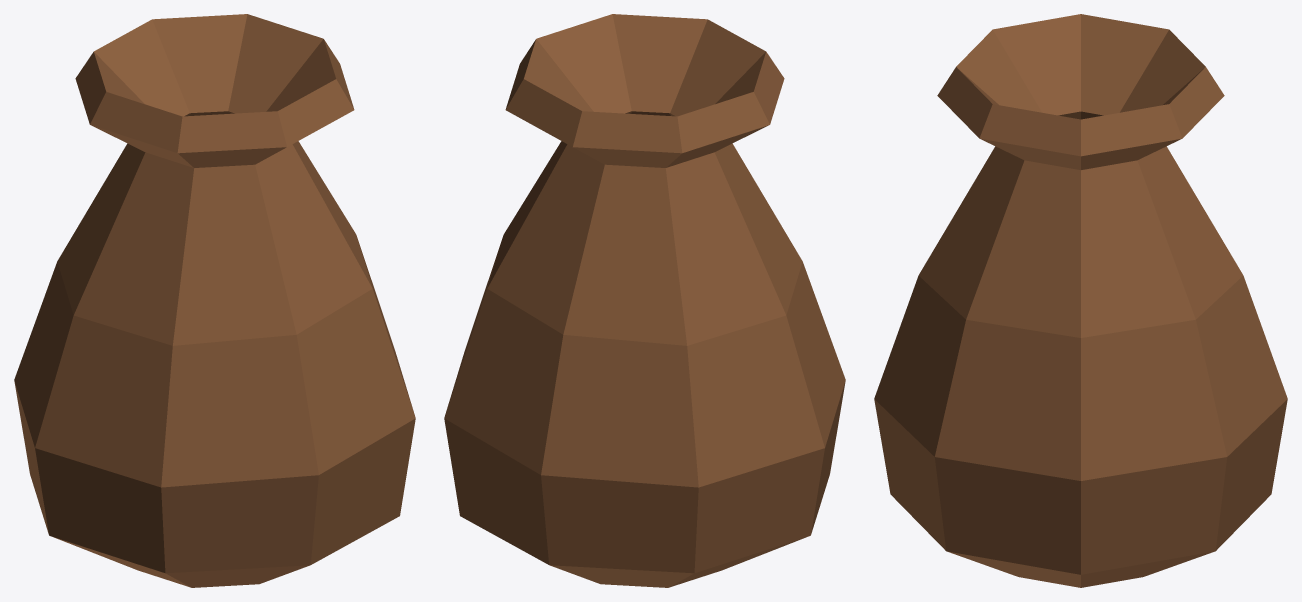
The model's file is egypt_egypt-amphora-simple.fbx.
The picture shows the model from 3 angles, left to right: view 1: azimuth 30°, elevation 25°; view 2: azimuth 150°, elevation 25°; view 3: azimuth 270°, elevation 25°; orthographic projection.
Parts seen in each view (by area): view 1: egypt_egypt_amphora_simple; view 2: egypt_egypt_amphora_simple; view 3: egypt_egypt_amphora_simple.
Part boxes in pixels (x1,y1,x2,y2): egypt_egypt_amphora_simple: (14,14,415,587); egypt_egypt_amphora_simple: (444,14,845,587); egypt_egypt_amphora_simple: (874,14,1287,587).
Bounding box in the file's own units: 155 × 200 × 155.
